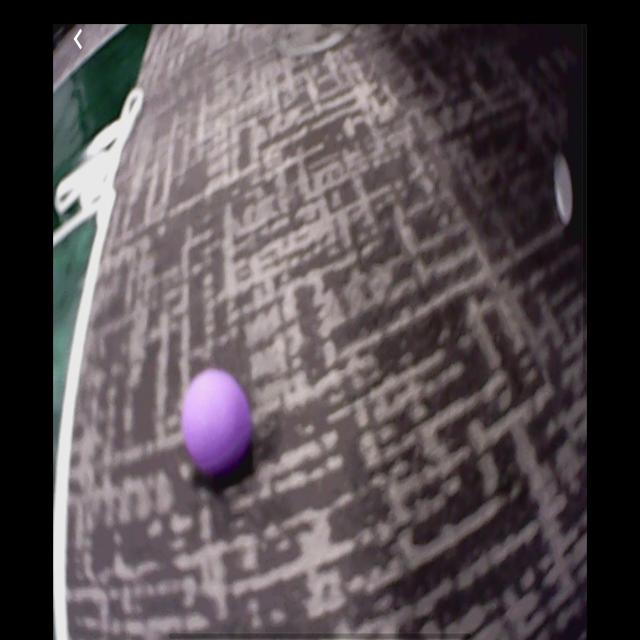ball: (183, 373, 253, 471)
